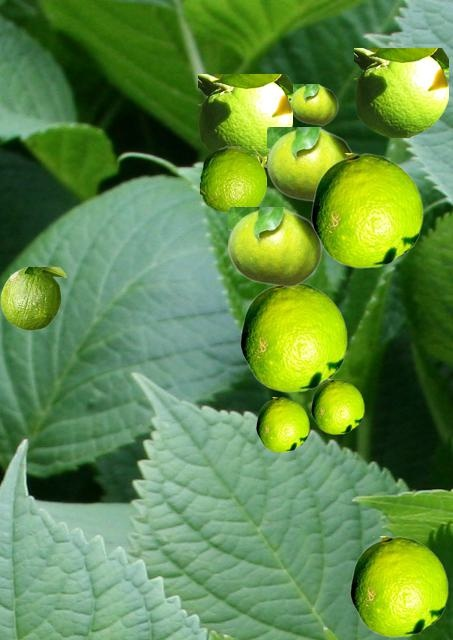dalandan: (311, 153, 422, 267), (240, 283, 346, 391), (350, 536, 447, 636), (354, 48, 447, 136), (198, 74, 291, 160), (228, 207, 321, 286), (267, 127, 352, 201), (200, 146, 265, 212), (0, 267, 65, 329), (311, 379, 363, 433), (256, 397, 308, 451), (290, 84, 337, 124)
